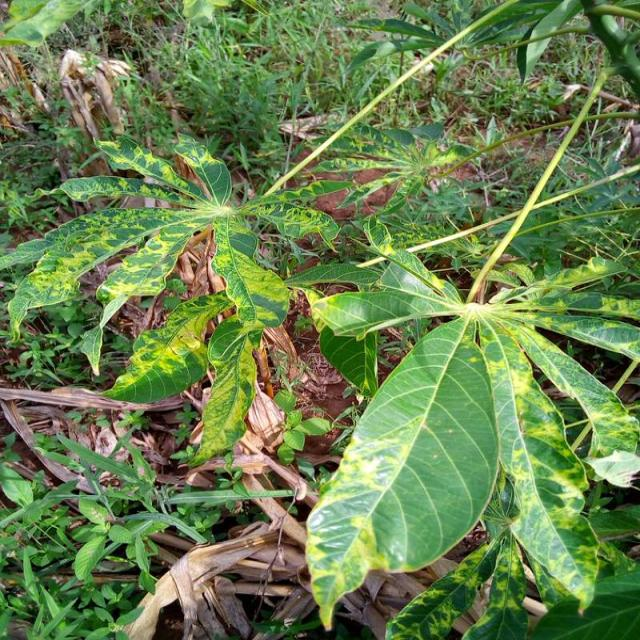cassava leaf: (303, 316, 500, 630)
